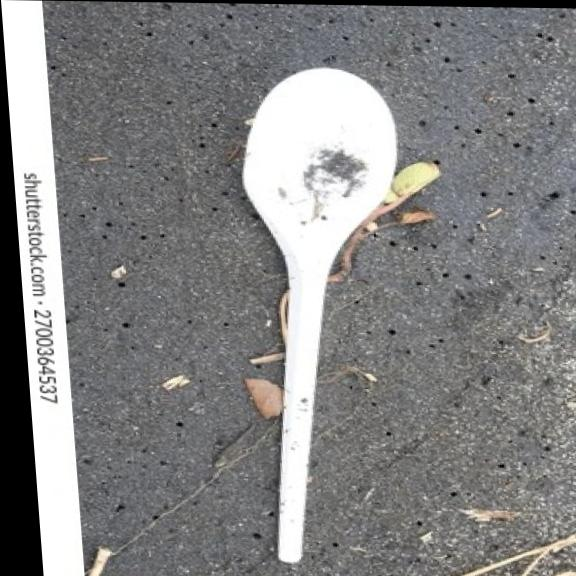Plastik: (242, 69, 395, 562)
